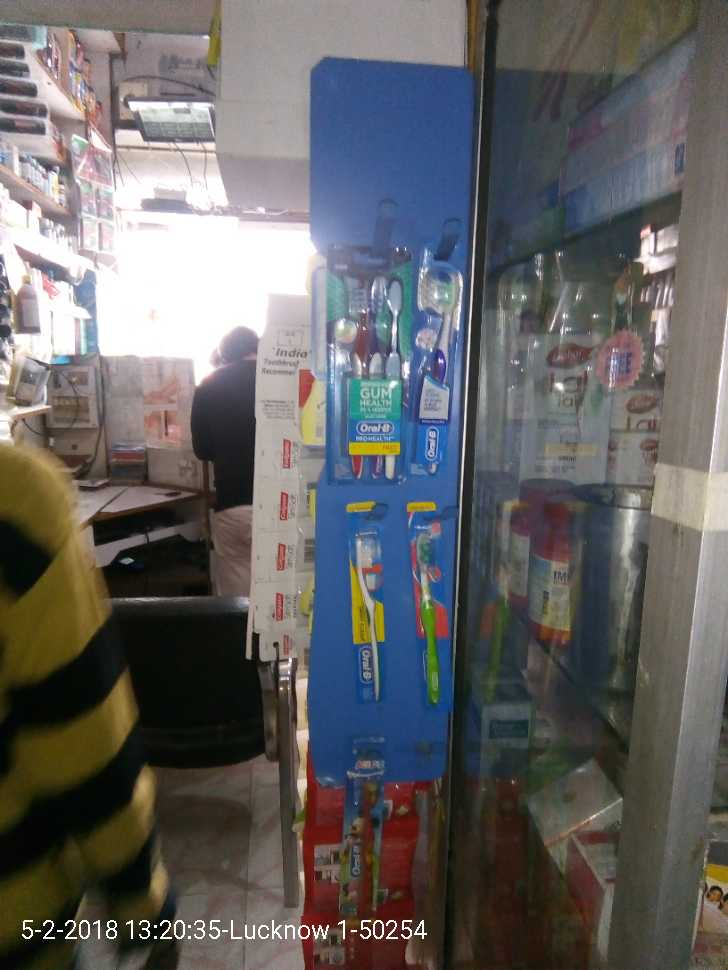oralb: (326, 242, 415, 484), (415, 238, 464, 478), (401, 499, 443, 710), (344, 501, 385, 707)
